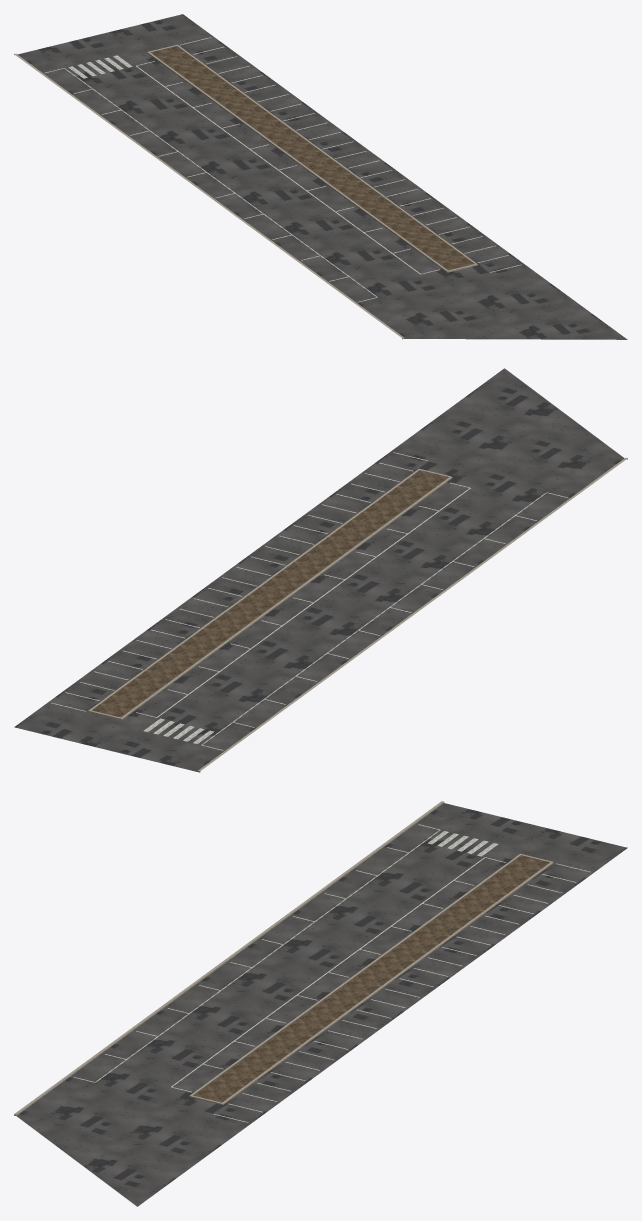
Rendered from SM_Parcheggio_Asfalto.fbx.
The picture shows the model from 3 angles, top to bottom: view 1: azimuth 30°, elevation 25°; view 2: azimuth 150°, elevation 25°; view 3: azimuth 330°, elevation 25°; orthographic projection. The views are drawn at different scales.
Visible parts, largest first — view 1: SM_Parcheggio_Asfalto; view 2: SM_Parcheggio_Asfalto; view 3: SM_Parcheggio_Asfalto.
Part boxes in pixels (x1=…): SM_Parcheggio_Asfalto: x1=14, y1=14, x2=627, y2=339; SM_Parcheggio_Asfalto: x1=14, y1=368, x2=627, y2=772; SM_Parcheggio_Asfalto: x1=14, y1=801, x2=627, y2=1206.
Size of what is drawn, in the model's own units: 1885 by 8600 by 13.
4 materials, 4 textured.
